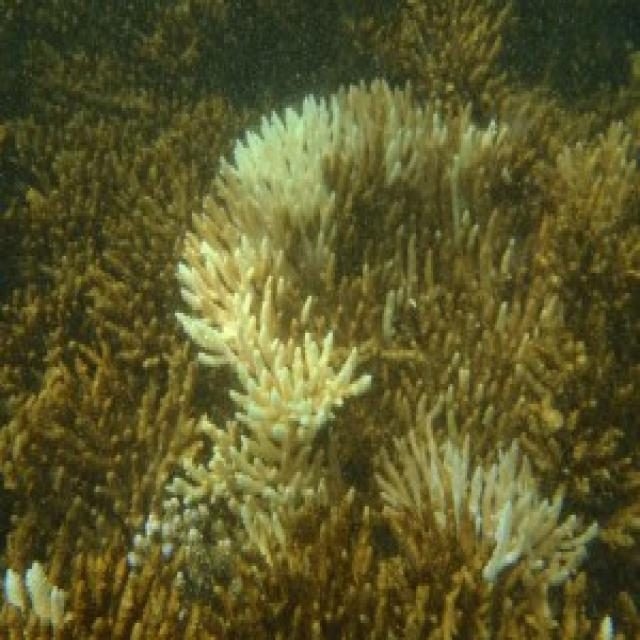Bleached: (176, 87, 500, 431), (379, 441, 591, 588), (137, 428, 328, 566), (7, 566, 72, 629)
Healthy: (6, 6, 169, 494), (504, 84, 640, 433), (82, 571, 594, 639), (5, 498, 135, 560), (400, 1, 507, 75)
